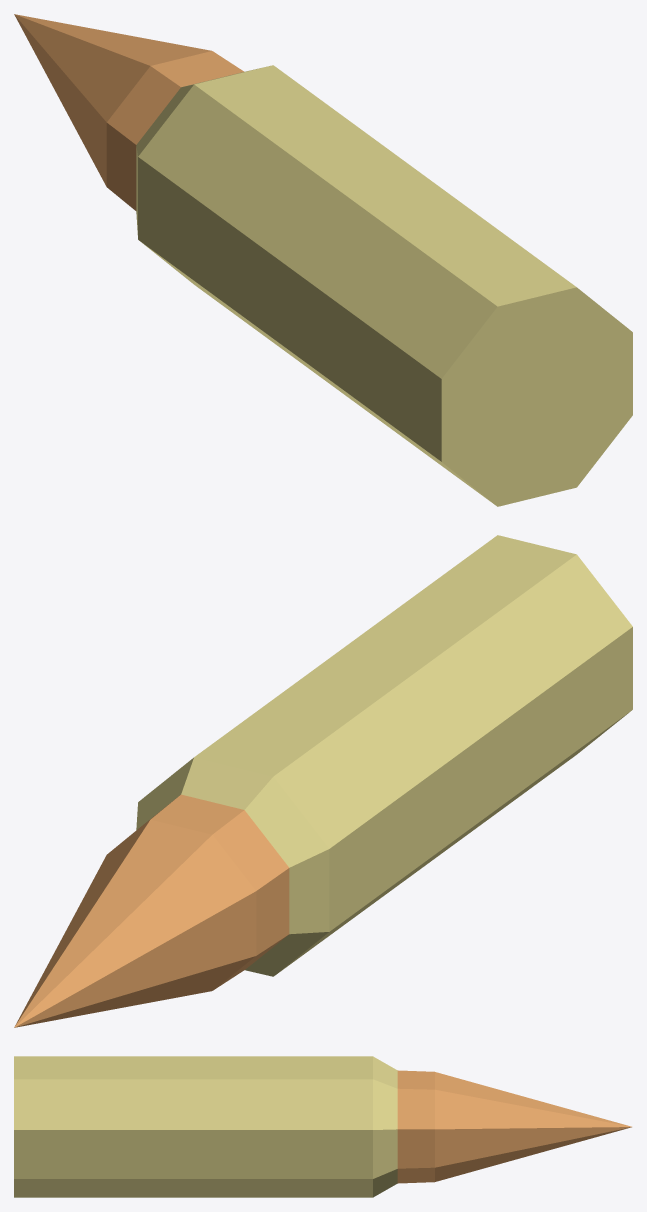
The model's file is ce_ammo_highcal_fmj_a.obj.
3 renders of one model, top to bottom at view 1: azimuth 30°, elevation 25°; view 2: azimuth 150°, elevation 25°; view 3: azimuth 270°, elevation 25°, orthographic. The views are drawn at different scales.
Parts seen in each view (by area): view 1: ce_ammo_highcal_fmj_a_0, ce_ammo_highcal_fmj_a_3, ce_ammo_highcal_fmj_a_2, ce_ammo_highcal_fmj_a_1; view 2: ce_ammo_highcal_fmj_a_0, ce_ammo_highcal_fmj_a_3, ce_ammo_highcal_fmj_a_1, ce_ammo_highcal_fmj_a_2; view 3: ce_ammo_highcal_fmj_a_0, ce_ammo_highcal_fmj_a_3, ce_ammo_highcal_fmj_a_2, ce_ammo_highcal_fmj_a_1.
Part boxes in pixels (x1,y1,x2,y2): ce_ammo_highcal_fmj_a_0: (138,65,632,506); ce_ammo_highcal_fmj_a_3: (14,14,211,186); ce_ammo_highcal_fmj_a_2: (106,51,243,210); ce_ammo_highcal_fmj_a_1: (136,68,260,234); ce_ammo_highcal_fmj_a_0: (194,535,632,974); ce_ammo_highcal_fmj_a_3: (14,819,256,1027); ce_ammo_highcal_fmj_a_1: (136,757,329,976); ce_ammo_highcal_fmj_a_2: (114,794,289,990); ce_ammo_highcal_fmj_a_0: (14,1056,372,1197); ce_ammo_highcal_fmj_a_3: (435,1072,631,1181); ce_ammo_highcal_fmj_a_2: (397,1070,434,1183); ce_ammo_highcal_fmj_a_1: (373,1056,397,1197).
Bounding box in the file's own units: 0.1478 × 0.1478 × 0.7.
